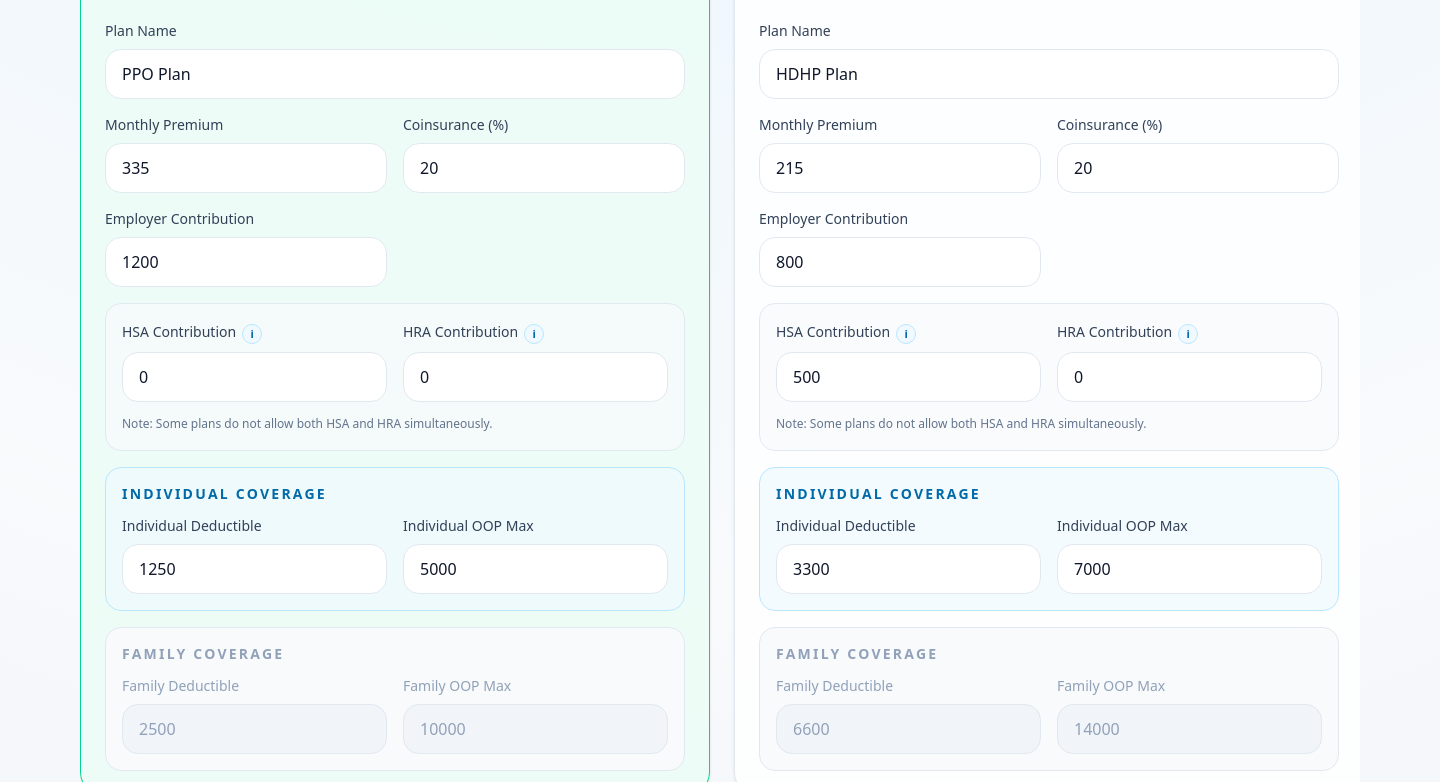
App integration › updates totals when hra contribution changes
(page scrolled)
Replace the text in the 1st number field named "HRA Contribution" with "400". click: (536, 377)
box: left=403, top=352, right=668, bottom=402
(page scrolled)
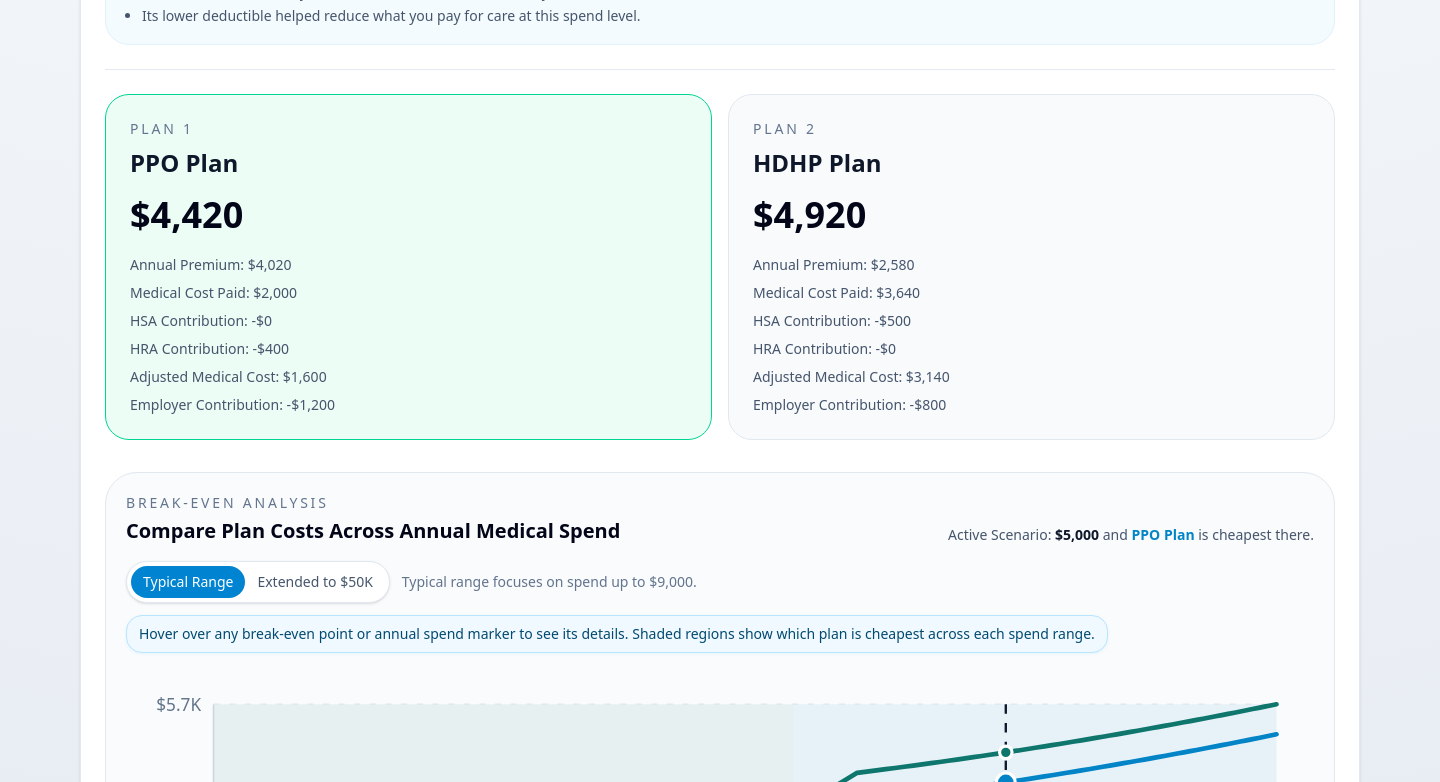
Result: the text "HRA Contribution: -$400" is shown at left=130, top=339, right=289, bottom=358
Result: the text "Adjusted Medical Cost: $1,600" is shown at left=130, top=367, right=327, bottom=386
